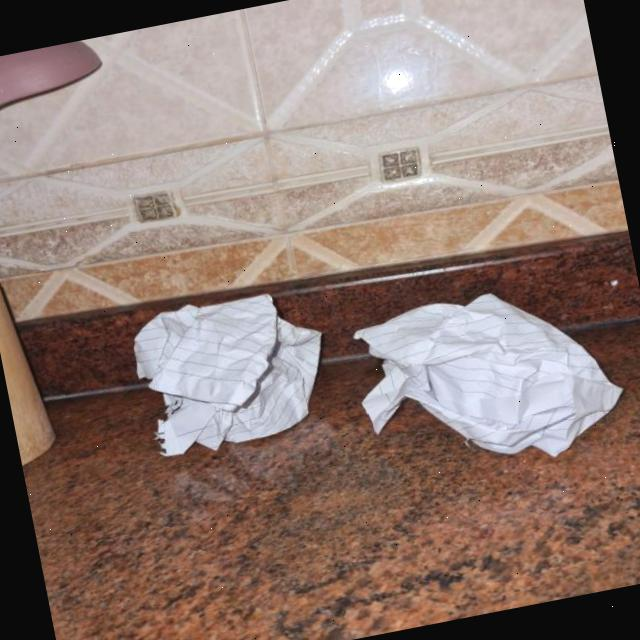trash: (344, 258, 638, 486), (117, 274, 342, 464)
